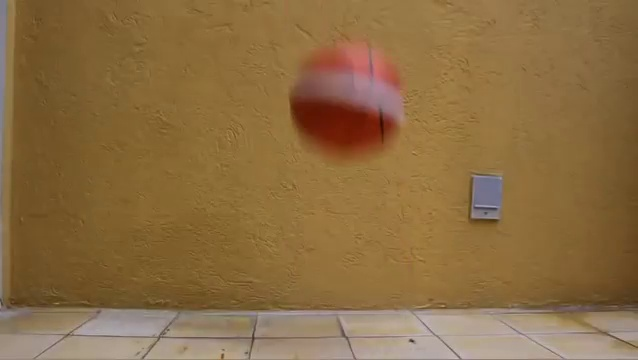ball: (290, 38, 409, 160)
